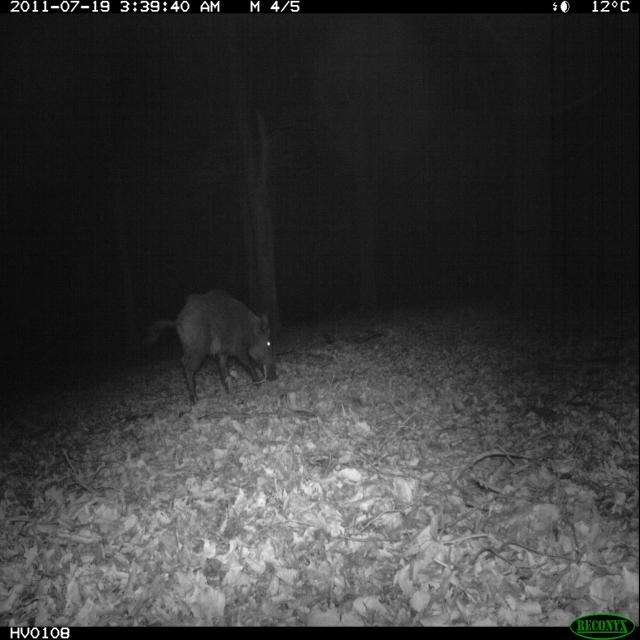boar: (144, 258, 296, 419)
